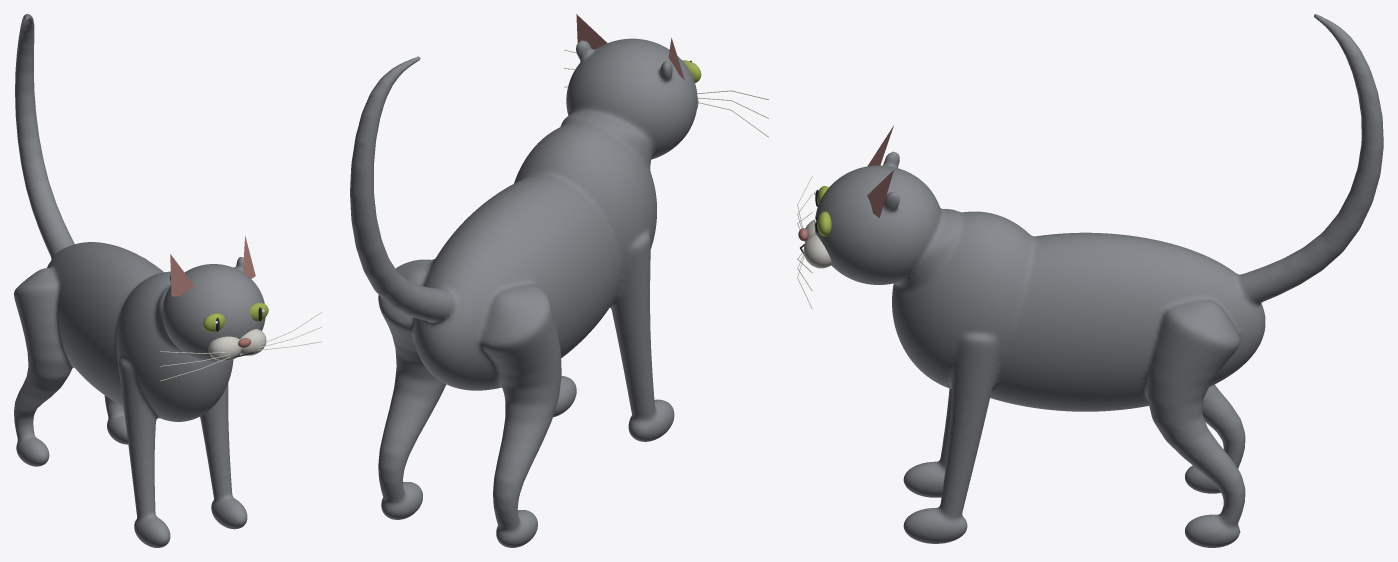
The model's file is cat-original.glb.
3 renders of one model, left to right at view 1: azimuth 30°, elevation 25°; view 2: azimuth 150°, elevation 25°; view 3: azimuth 270°, elevation 25°, orthographic. The views are drawn at different scales.
Parts seen in each view (by area): view 1: Cat continuous body, Muzzle pad, Inner ear, Muzzle pad.001; view 2: Cat continuous body, Inner ear.001; view 3: Cat continuous body.
Boxes of the visible parts, bbox=[...] form: Cat continuous body: bbox=[14, 14, 265, 547]; Muzzle pad: bbox=[208, 336, 241, 361]; Inner ear: bbox=[170, 254, 194, 296]; Muzzle pad.001: bbox=[240, 329, 266, 355]; Cat continuous body: bbox=[350, 38, 697, 547]; Inner ear.001: bbox=[576, 14, 607, 49]; Cat continuous body: bbox=[814, 14, 1383, 547].
Bounding box in the file's own units: 0.3104 × 0.7467 × 0.7947.
